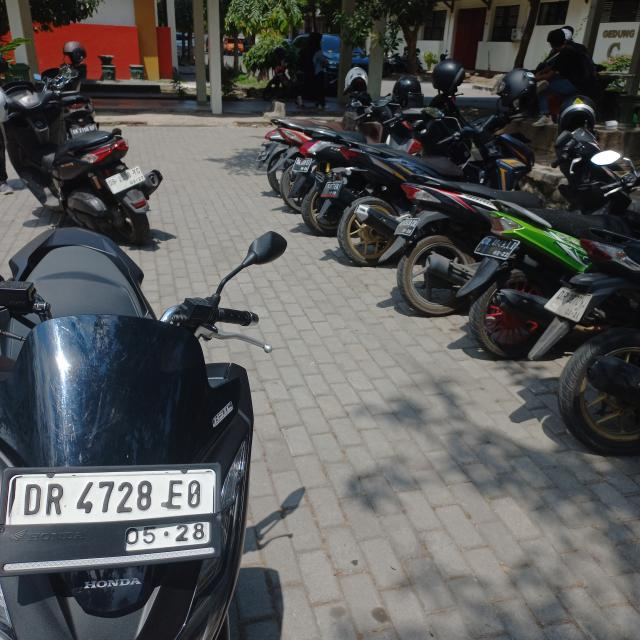plate: (5, 472, 216, 551), (473, 235, 521, 261)
